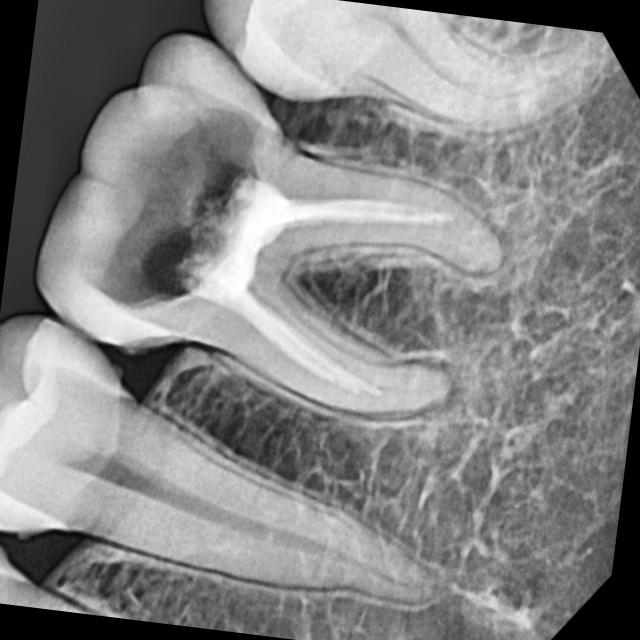RCT: (22, 0, 517, 462)
